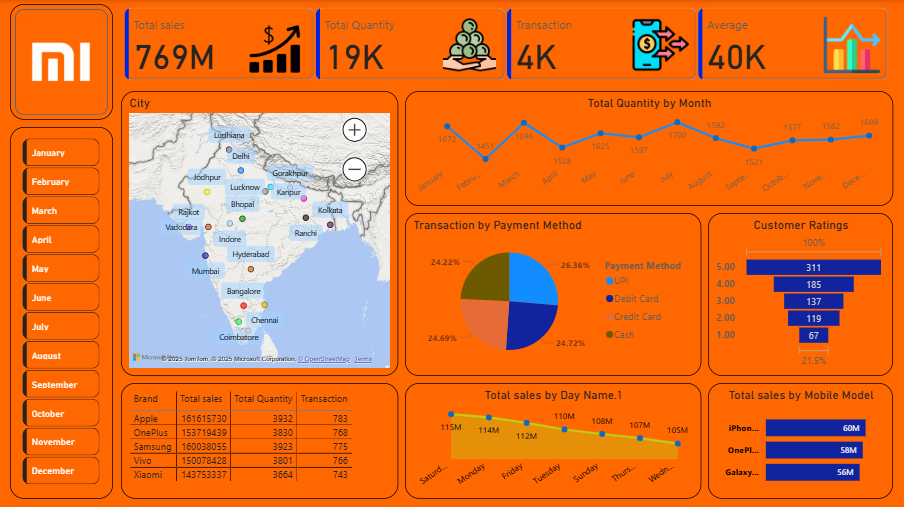

This screenshot's page, from the dashboard's own definition file:
{"tool":"powerbi","page":{"name":"Page 1","canvas":[1280,720],"ordinal":0},"visuals":[{"type":"shape","box":[14.3,5.7,145.7,164.3],"z":0},{"type":"image","box":[27.1,17.1,118.6,141.4],"z":1000},{"type":"shape","box":[14.2,180,146,527.2],"z":2000},{"type":"advancedSlicerVisual","fields":{"Values":["Sales Data.Date.Variation.Date Hierarchy.Month"]},"box":[26.9,191.3,119.1,506],"z":3000},{"type":"cardVisual","fields":{"Data":["Sales Data.Total sales","Sales Data.Total Quantity","Sales Data.Transaction","Sales Data.Average"]},"box":[171.5,5.7,1094.2,113.4],"z":4000},{"type":"map","fields":{"Category":["Sales Data.City"]},"box":[171.5,129,392.6,403.9],"z":5000},{"type":"lineChart","fields":{"Y":["Sales Data.Total Quantity"],"Category":["Sales Data.Date.Variation.Date Hierarchy.Month","Sales Data.Date.Variation.Date Hierarchy.Day"]},"box":[574,129,691.7,163],"z":6000},{"type":"pieChart","fields":{"Category":["Sales Data.Payment Method"],"Y":["Sales Data.Transaction"]},"box":[574,301.9,419.5,231],"z":7000},{"type":"clusteredBarChart","fields":{"Category":["Sales Data.Mobile Model"],"Y":["Sales Data.Total sales"]},"box":[1003.5,542.8,262.2,164.4],"z":8000},{"type":"funnel","title":"Customer Ratings","fields":{"Category":["Sales Data.Customer Ratings"],"Y":["CountNonNull(Sales Data.Customer Ratings)"]},"box":[1003.5,301.9,262.2,231],"z":9000},{"type":"areaChart","fields":{"Category":["Sales Data.Day Name.1"],"Y":["Sales Data.Total sales"]},"box":[574,543,420,164],"z":10000},{"type":"tableEx","fields":{"Values":["Sales Data.Brand","Sales Data.Total sales","Sales Data.Total Quantity","Sales Data.Transaction"]},"box":[171.5,542.8,392.6,164.4],"z":11000}]}

Visuals, with their boxes in screenshot pixels (x1, y1, x2, y2), scaled from the page's 1280x720 canvas onto the 904x507 screenshot:
shape: bbox=[10, 4, 113, 120]
image: bbox=[19, 12, 103, 112]
shape: bbox=[10, 127, 113, 498]
advancedSlicerVisual - Sales Data.Date.Variation.Date Hierarchy.Month: bbox=[19, 135, 103, 491]
cardVisual - Sales Data.Total sales x Sales Data.Total Quantity: bbox=[121, 4, 894, 84]
map - Sales Data.City: bbox=[121, 91, 398, 375]
lineChart - Sales Data.Total Quantity x Sales Data.Date.Variation.Date Hierarchy.Month: bbox=[405, 91, 894, 206]
pieChart - Sales Data.Payment Method x Sales Data.Transaction: bbox=[405, 213, 702, 375]
clusteredBarChart - Sales Data.Mobile Model x Sales Data.Total sales: bbox=[709, 382, 894, 498]
"Customer Ratings" funnel: bbox=[709, 213, 894, 375]
areaChart - Sales Data.Day Name.1 x Sales Data.Total sales: bbox=[405, 382, 702, 498]
tableEx - Sales Data.Brand x Sales Data.Total sales: bbox=[121, 382, 398, 498]
